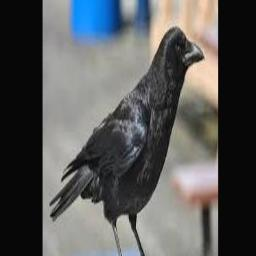Crow: (50, 24, 205, 256)
